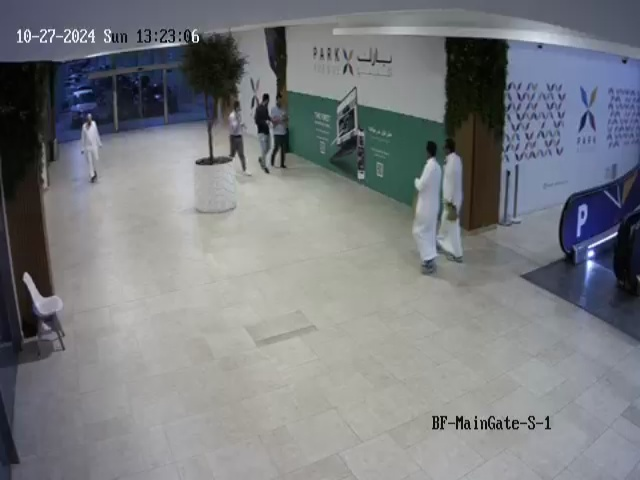male: (412, 140, 442, 274), (437, 137, 464, 264), (227, 100, 252, 177), (254, 93, 274, 174), (80, 114, 103, 183), (270, 96, 289, 169)
